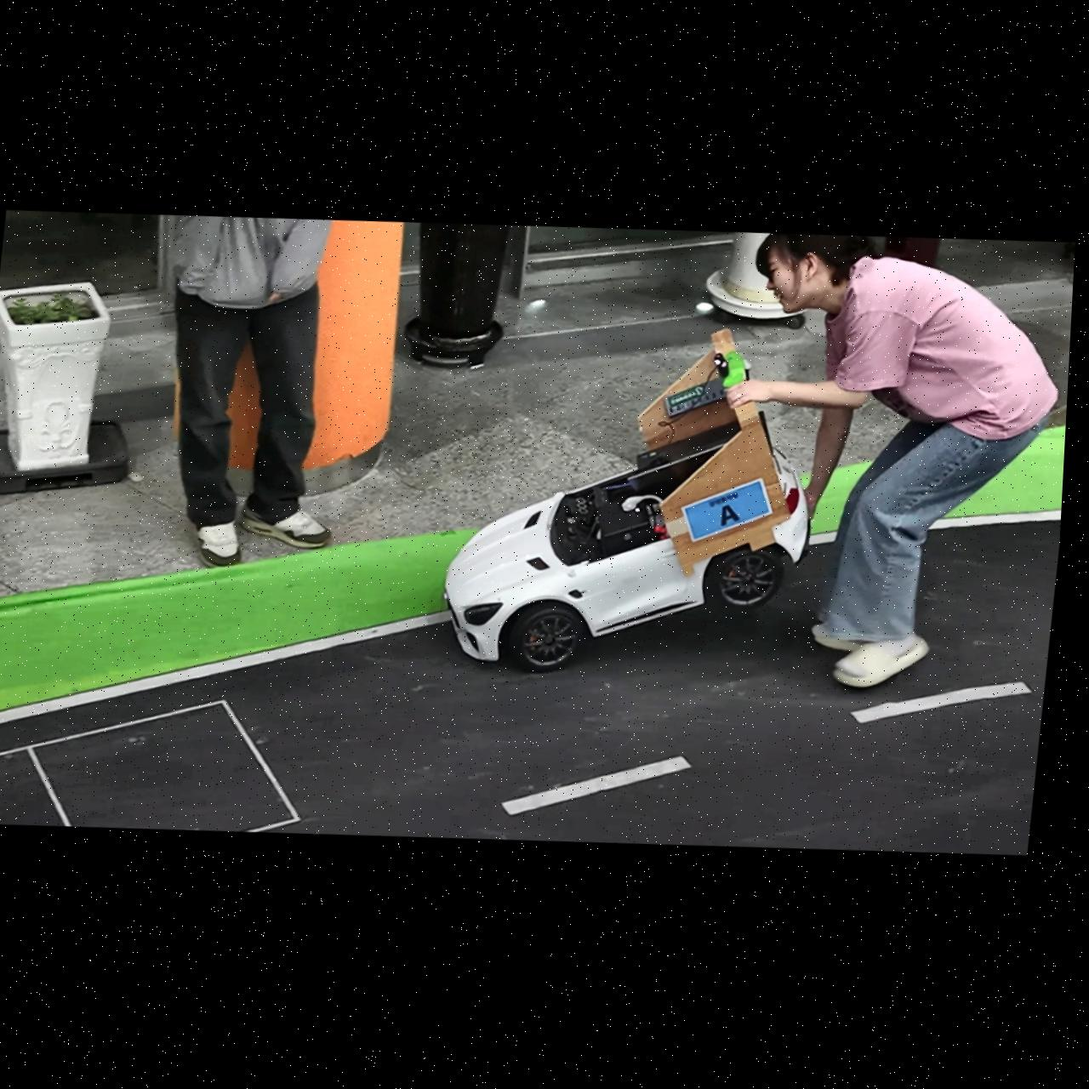broken_line: (502, 755, 691, 815), (849, 682, 1031, 723)
